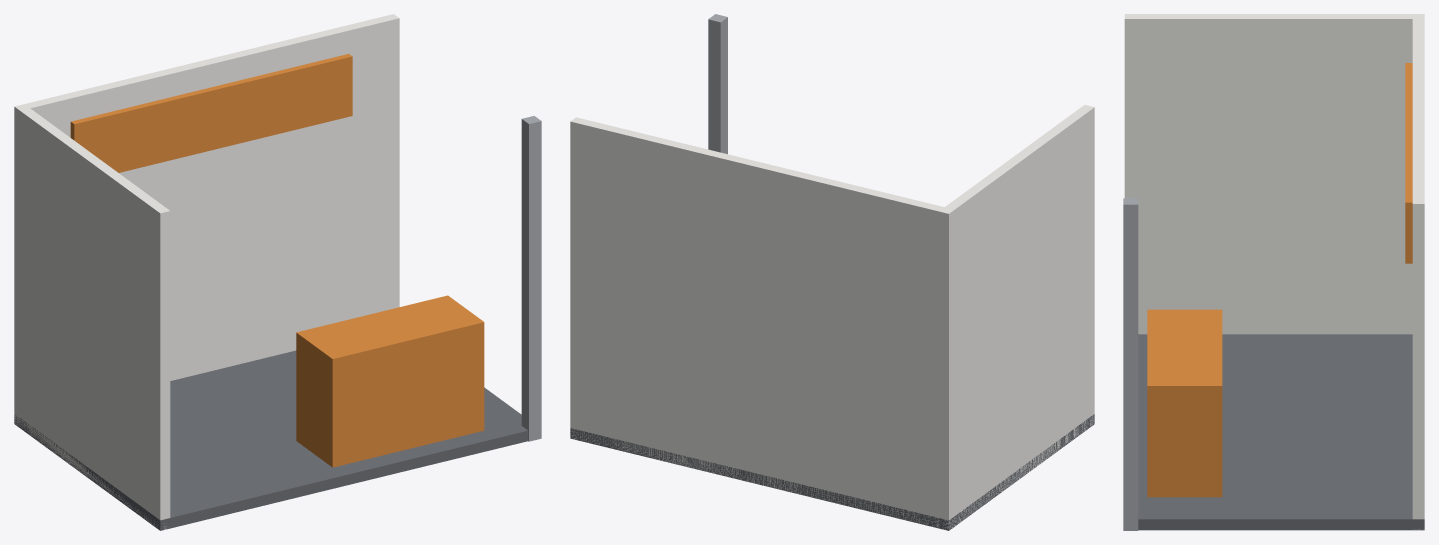
File: stand-demo.glb
3 views of the same model, side by side, from view 1: azimuth 30°, elevation 25°; view 2: azimuth 150°, elevation 25°; view 3: azimuth 270°, elevation 25° (orthographic). The views are drawn at different scales.
Visible parts, largest first — view 1: pieza_1_muro, pieza_2_muro, pieza_0_piso, pieza_4_acento, pieza_3_acento, pieza_5_estructura; view 2: pieza_1_muro, pieza_2_muro, pieza_0_piso, pieza_5_estructura; view 3: pieza_2_muro, pieza_0_piso, pieza_4_acento, pieza_1_muro, pieza_5_estructura, pieza_3_acento.
Boxes of the visible parts, left/top/right/bottom form: pieza_1_muro: left=14, top=14, right=399, bottom=426; pieza_2_muro: left=14, top=104, right=170, bottom=530; pieza_0_piso: left=14, top=350, right=528, bottom=530; pieza_4_acento: left=296, top=295, right=484, bottom=467; pieza_3_acento: left=70, top=54, right=352, bottom=172; pieza_5_estructura: left=521, top=116, right=541, bottom=441; pieza_1_muro: left=570, top=117, right=954, bottom=529; pieza_2_muro: left=939, top=105, right=1094, bottom=529; pieza_0_piso: left=570, top=414, right=1094, bottom=530; pieza_5_estructura: left=708, top=14, right=727, bottom=154; pieza_2_muro: left=1124, top=14, right=1424, bottom=334; pieza_0_piso: left=1138, top=334, right=1424, bottom=530; pieza_4_acento: left=1147, top=309, right=1222, bottom=497; pieza_1_muro: left=1412, top=14, right=1424, bottom=529; pieza_5_estructura: left=1123, top=198, right=1138, bottom=530; pieza_3_acento: left=1405, top=63, right=1412, bottom=263.
Size of the model in its own units: 3.01 by 2.4 by 2.01.
